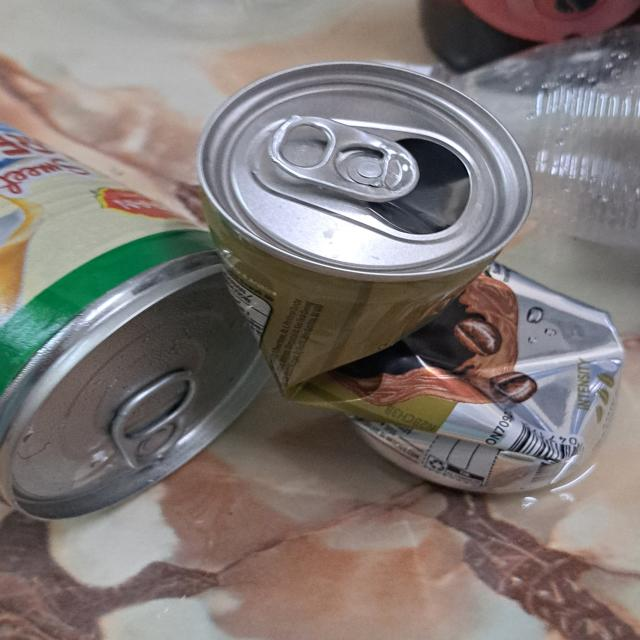can: (201, 60, 628, 496), (0, 122, 272, 523)
pop tab: (276, 112, 418, 198), (111, 370, 198, 474)
